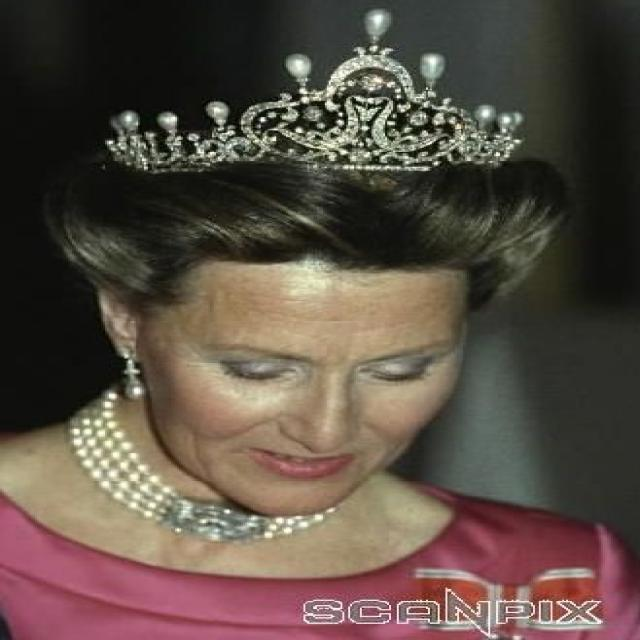Earring: (113, 346, 166, 404)
